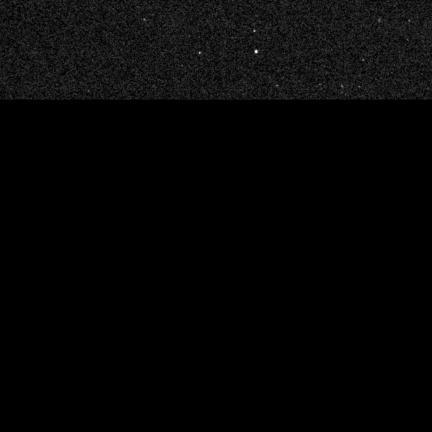blob: (255, 50, 259, 54)
